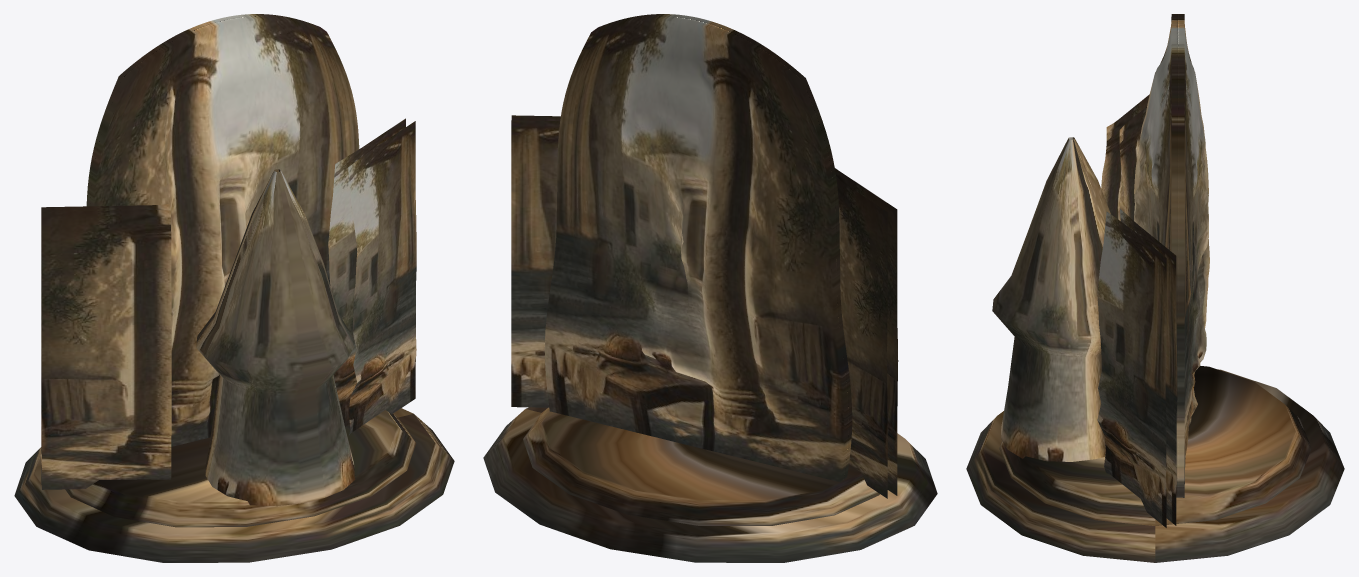
File: grace-mercy-and-peace-7.glb
3 renders of one model, left to right at view 1: azimuth 30°, elevation 25°; view 2: azimuth 150°, elevation 25°; view 3: azimuth 270°, elevation 25°, orthographic. The views are drawn at different scales.
Visible parts, largest first — view 1: PaintingSculptureMonument; view 2: PaintingSculptureMonument; view 3: PaintingSculptureMonument.
Boxes of the visible parts, x1,y1,x2,y2 form: PaintingSculptureMonument: (14, 14, 454, 562); PaintingSculptureMonument: (483, 14, 937, 562); PaintingSculptureMonument: (966, 14, 1344, 562).
Bounding box in the file's own units: 2.76 × 2.99 × 2.35.
1 material, 1 textured.
